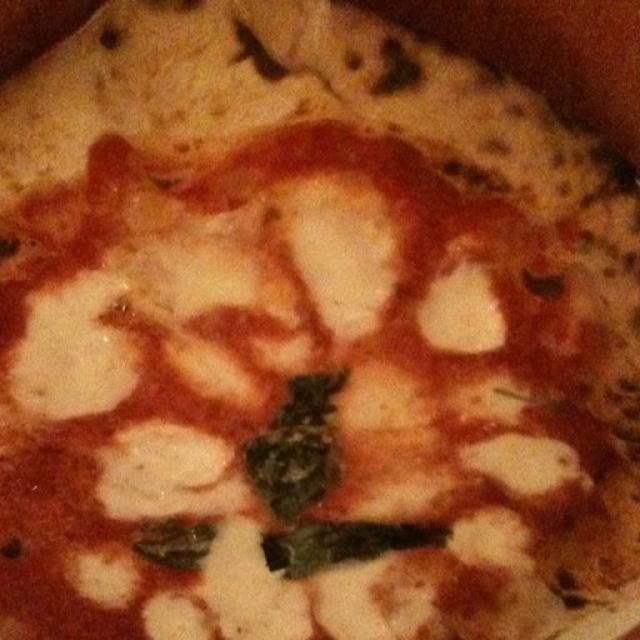basil: (264, 56, 452, 124), (241, 130, 348, 228), (271, 190, 349, 278), (135, 67, 220, 124), (523, 338, 568, 370), (3, 73, 23, 112), (0, 381, 22, 407)
pizza: (0, 0, 640, 640)
